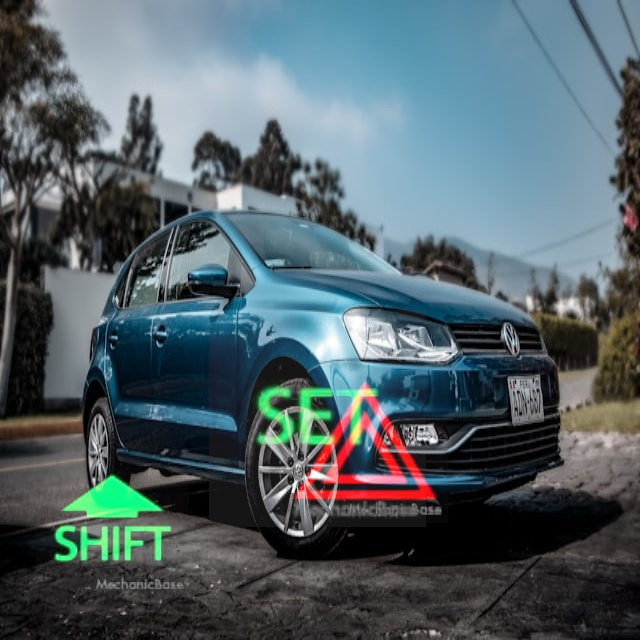symbol: (209, 310, 426, 527), (284, 359, 448, 523), (36, 444, 189, 597)
